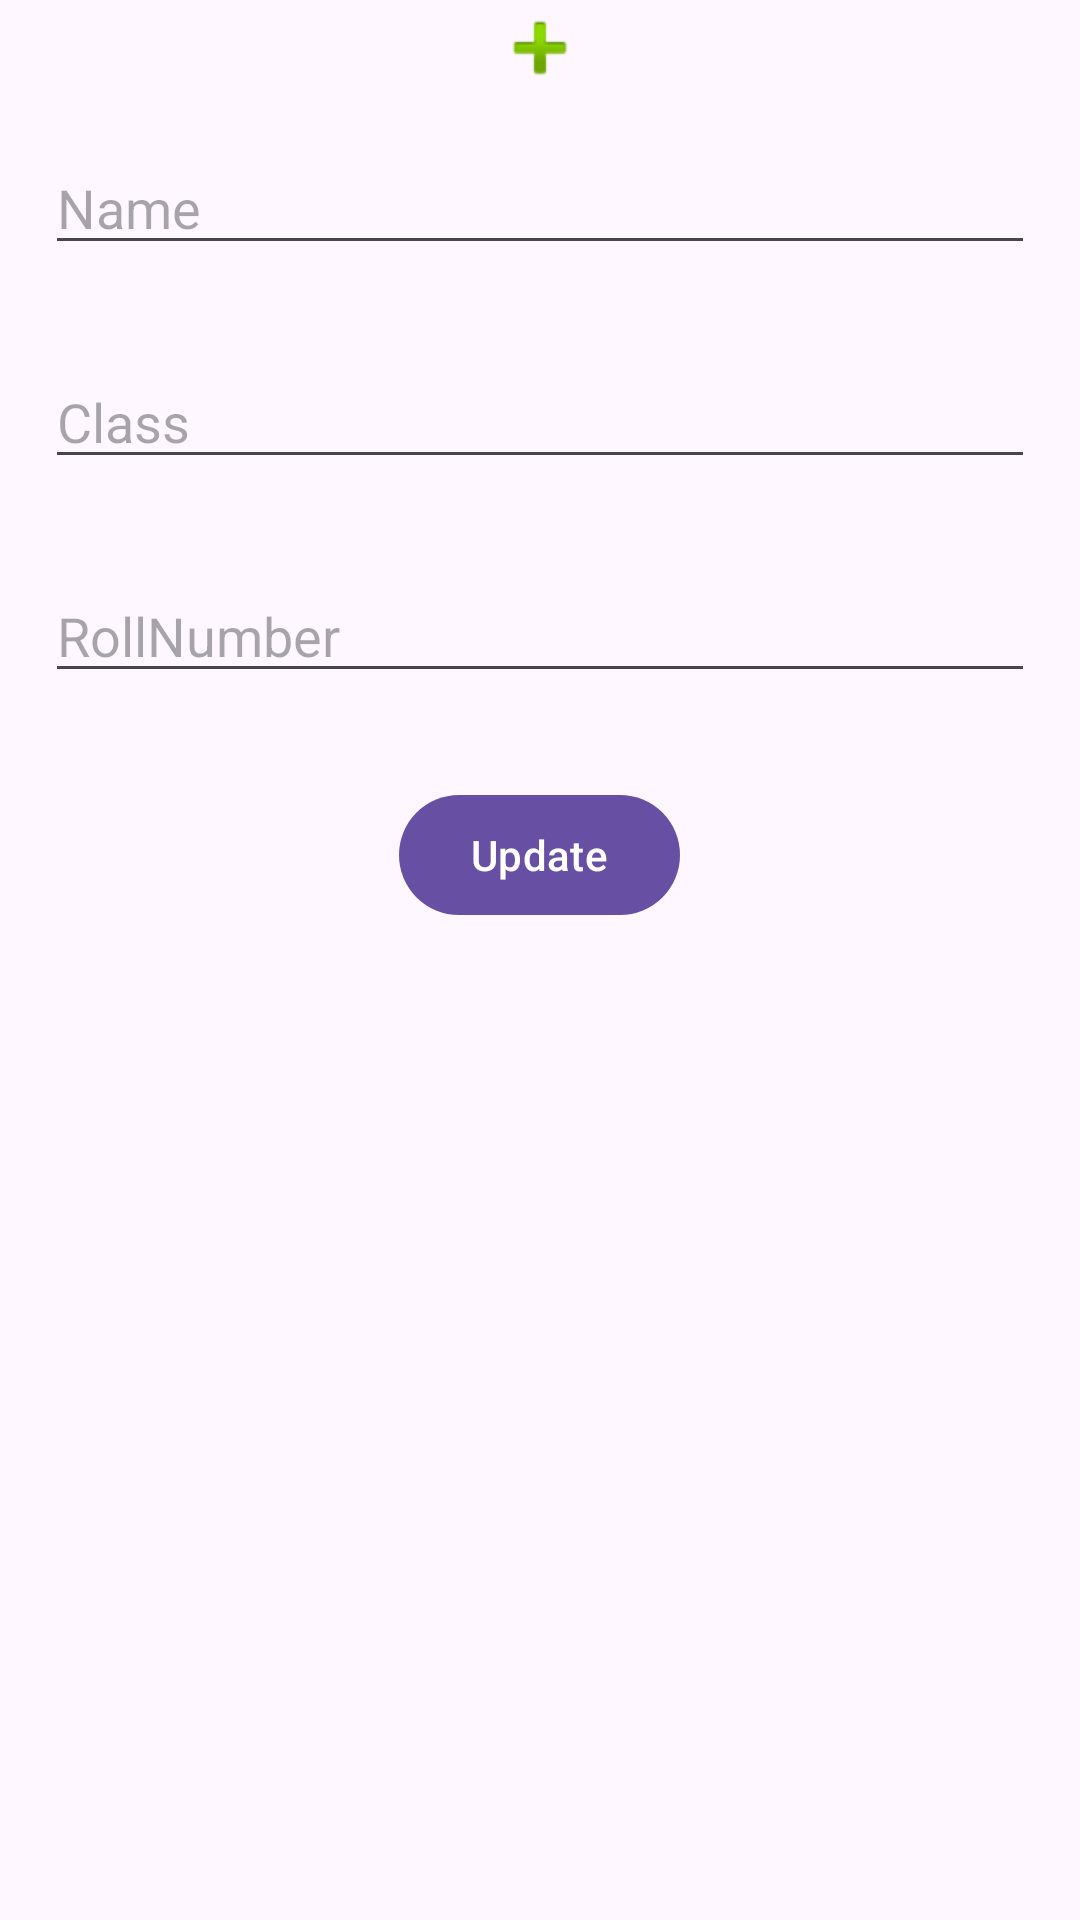

Icons on this 1080×1920 Android screen, each with its box as [left=x1, top=y1, right=x2, bottom=y2]:
add: [left=513, top=21, right=567, bottom=75]
